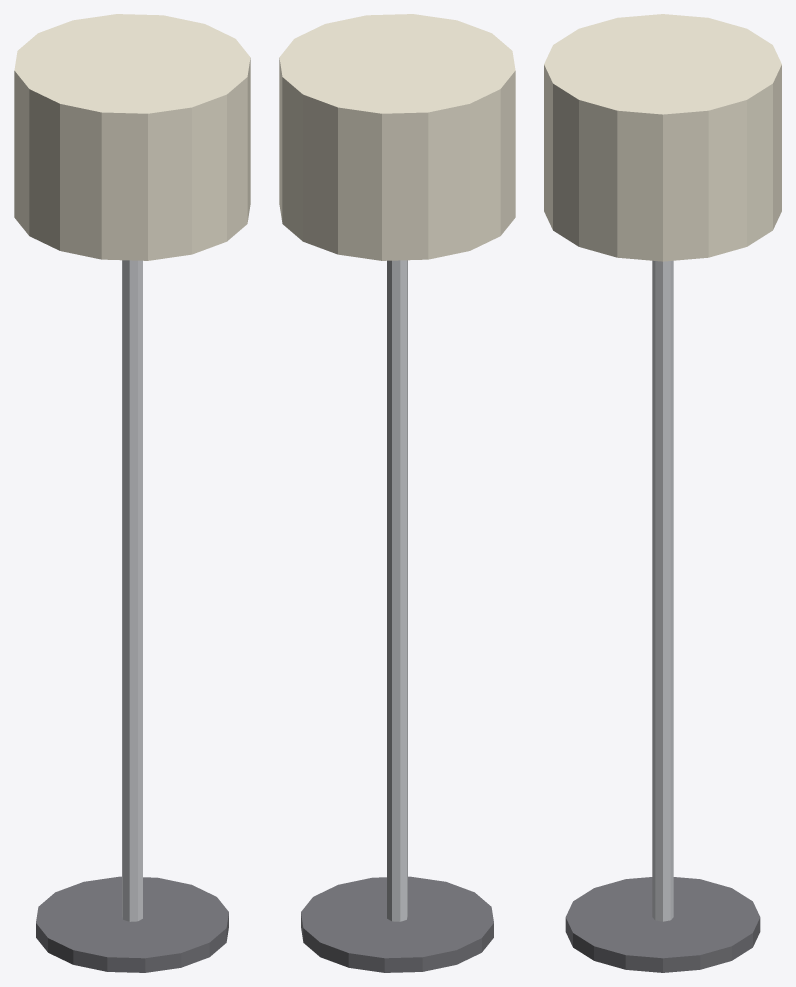
The model's file is th_lampe.glb.
The picture shows the model from 3 angles, left to right: view 1: azimuth 30°, elevation 25°; view 2: azimuth 150°, elevation 25°; view 3: azimuth 270°, elevation 25°; orthographic projection.
Visible parts, largest first — view 1: lampe; view 2: lampe; view 3: lampe.
Part boxes in pixels (x1,y1,x2,y2): lampe: [14, 14, 250, 972]; lampe: [279, 14, 515, 972]; lampe: [544, 14, 781, 972].
Bounding box in the file's own units: 0.44 × 1.77 × 0.44.
